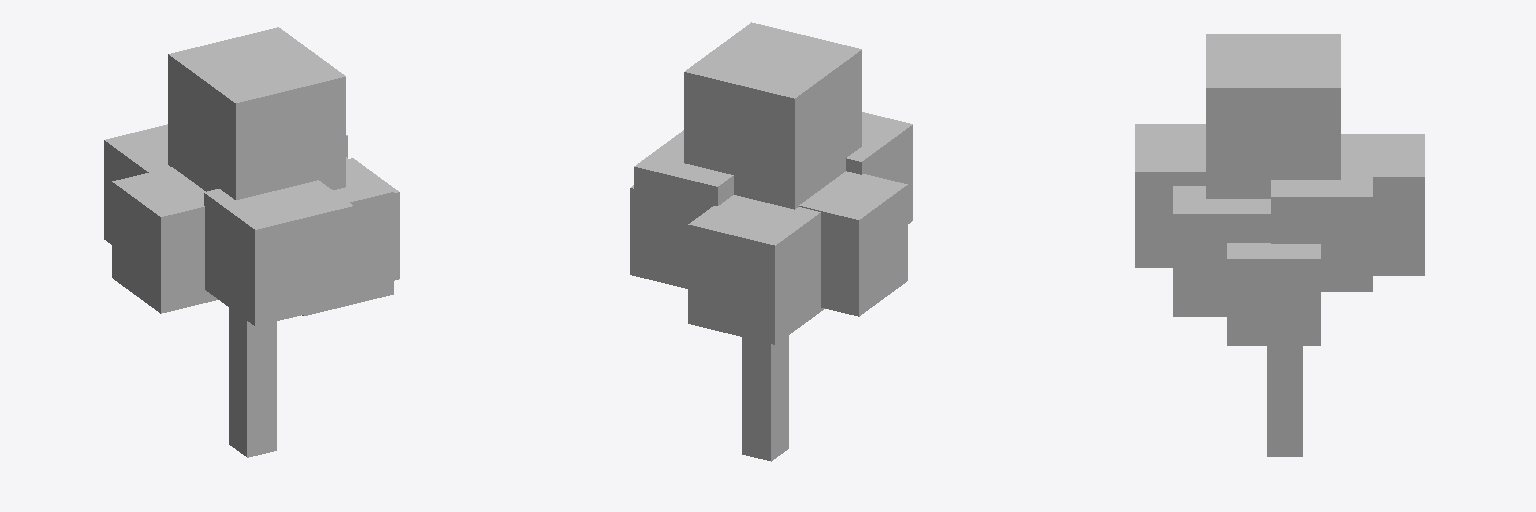
Rendered from tree3.obj.
3 renders of one model, left to right at view 1: azimuth 30°, elevation 25°; view 2: azimuth 150°, elevation 25°; view 3: azimuth 270°, elevation 25°, orthographic.
Parts seen in each view (by area): view 1: ST_Prop_Tree_medium_Untitled; view 2: ST_Prop_Tree_medium_Untitled; view 3: ST_Prop_Tree_medium_Untitled.
Boxes of the visible parts, box(x1,y1,x2,y2) form: ST_Prop_Tree_medium_Untitled: box(104, 27, 399, 457); ST_Prop_Tree_medium_Untitled: box(630, 22, 912, 461); ST_Prop_Tree_medium_Untitled: box(1135, 34, 1424, 456).
Bounding box in the file's own units: 2.83 × 4.45 × 3.01.